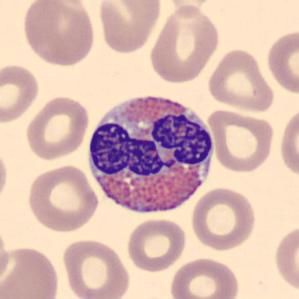Eosinophil: (83, 84, 218, 223)
RBC: (147, 3, 222, 85), (24, 163, 101, 233), (19, 0, 97, 68), (205, 46, 277, 114), (206, 107, 277, 174), (188, 185, 258, 252), (23, 94, 91, 162), (60, 236, 132, 299), (96, 0, 164, 55), (124, 216, 188, 274), (0, 244, 62, 299), (168, 255, 242, 299), (0, 62, 42, 125), (264, 27, 299, 96), (272, 222, 298, 294), (278, 104, 298, 181), (162, 0, 219, 16), (0, 221, 12, 288), (0, 144, 11, 210)
